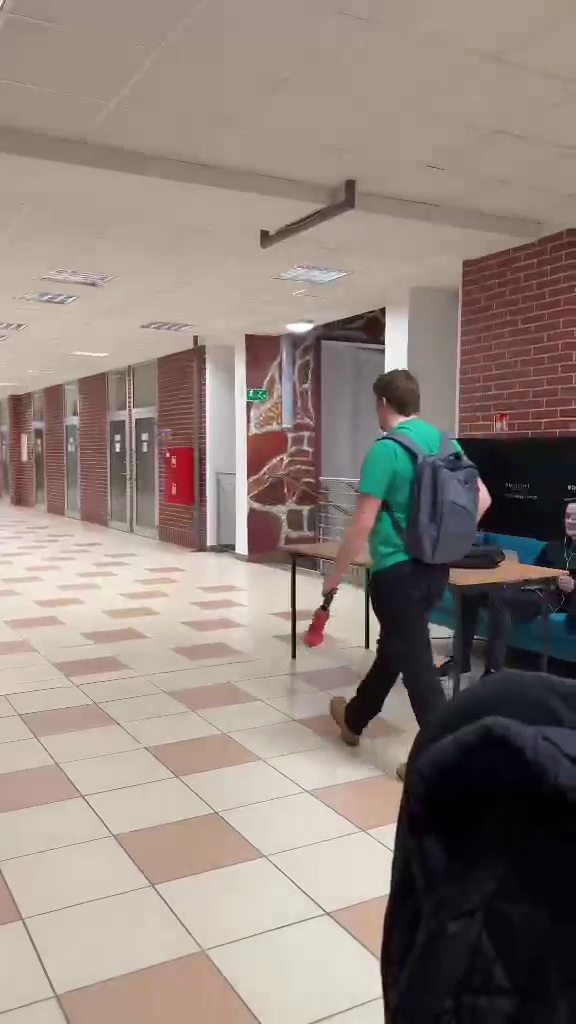no vest: (314, 374, 491, 744)
